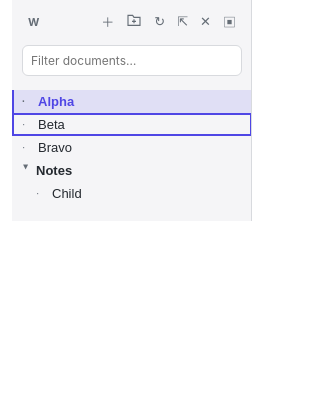
복제 진행 중 같은 작업과 새 문서 생성을 막고 완료된 경로를 표시한다
The image size is (332, 397).
Press F10 in the list item "· Beta", box top-left (12, 113), bottom-right (252, 136)
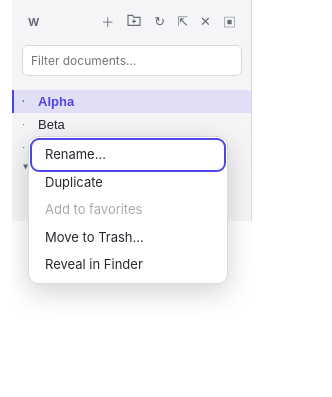
Click the menu item "Duplicate".
click(128, 182)  # box top-left (33, 169), bottom-right (223, 196)
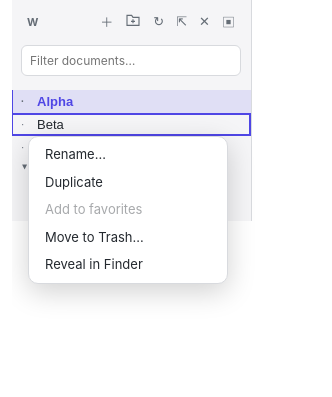
Click the button "＋".
click(107, 22)  # box top-left (94, 10), bottom-right (119, 33)
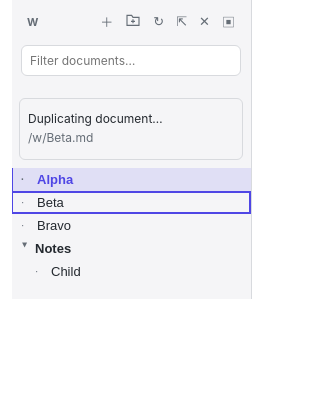
Result: the text "Duplicating document…" is shown at top-left (28, 111), bottom-right (163, 126)
Press F10 in the list item "· Beta", box top-left (11, 191), bottom-right (251, 214)
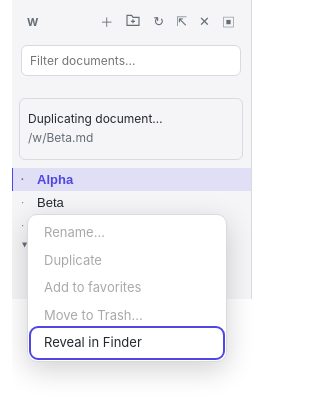
Result: the menu item "Duplicate" is disabled
Click the menu item "Duplicate".
click(127, 260)  # box top-left (32, 247), bottom-right (222, 274)
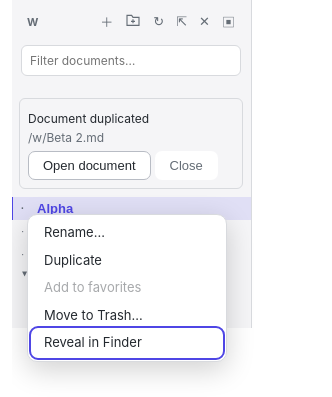
Result: the element with class "sidebar-file-operation" shows "/w/Beta 2.md" at top-left (28, 130), bottom-right (104, 145)
